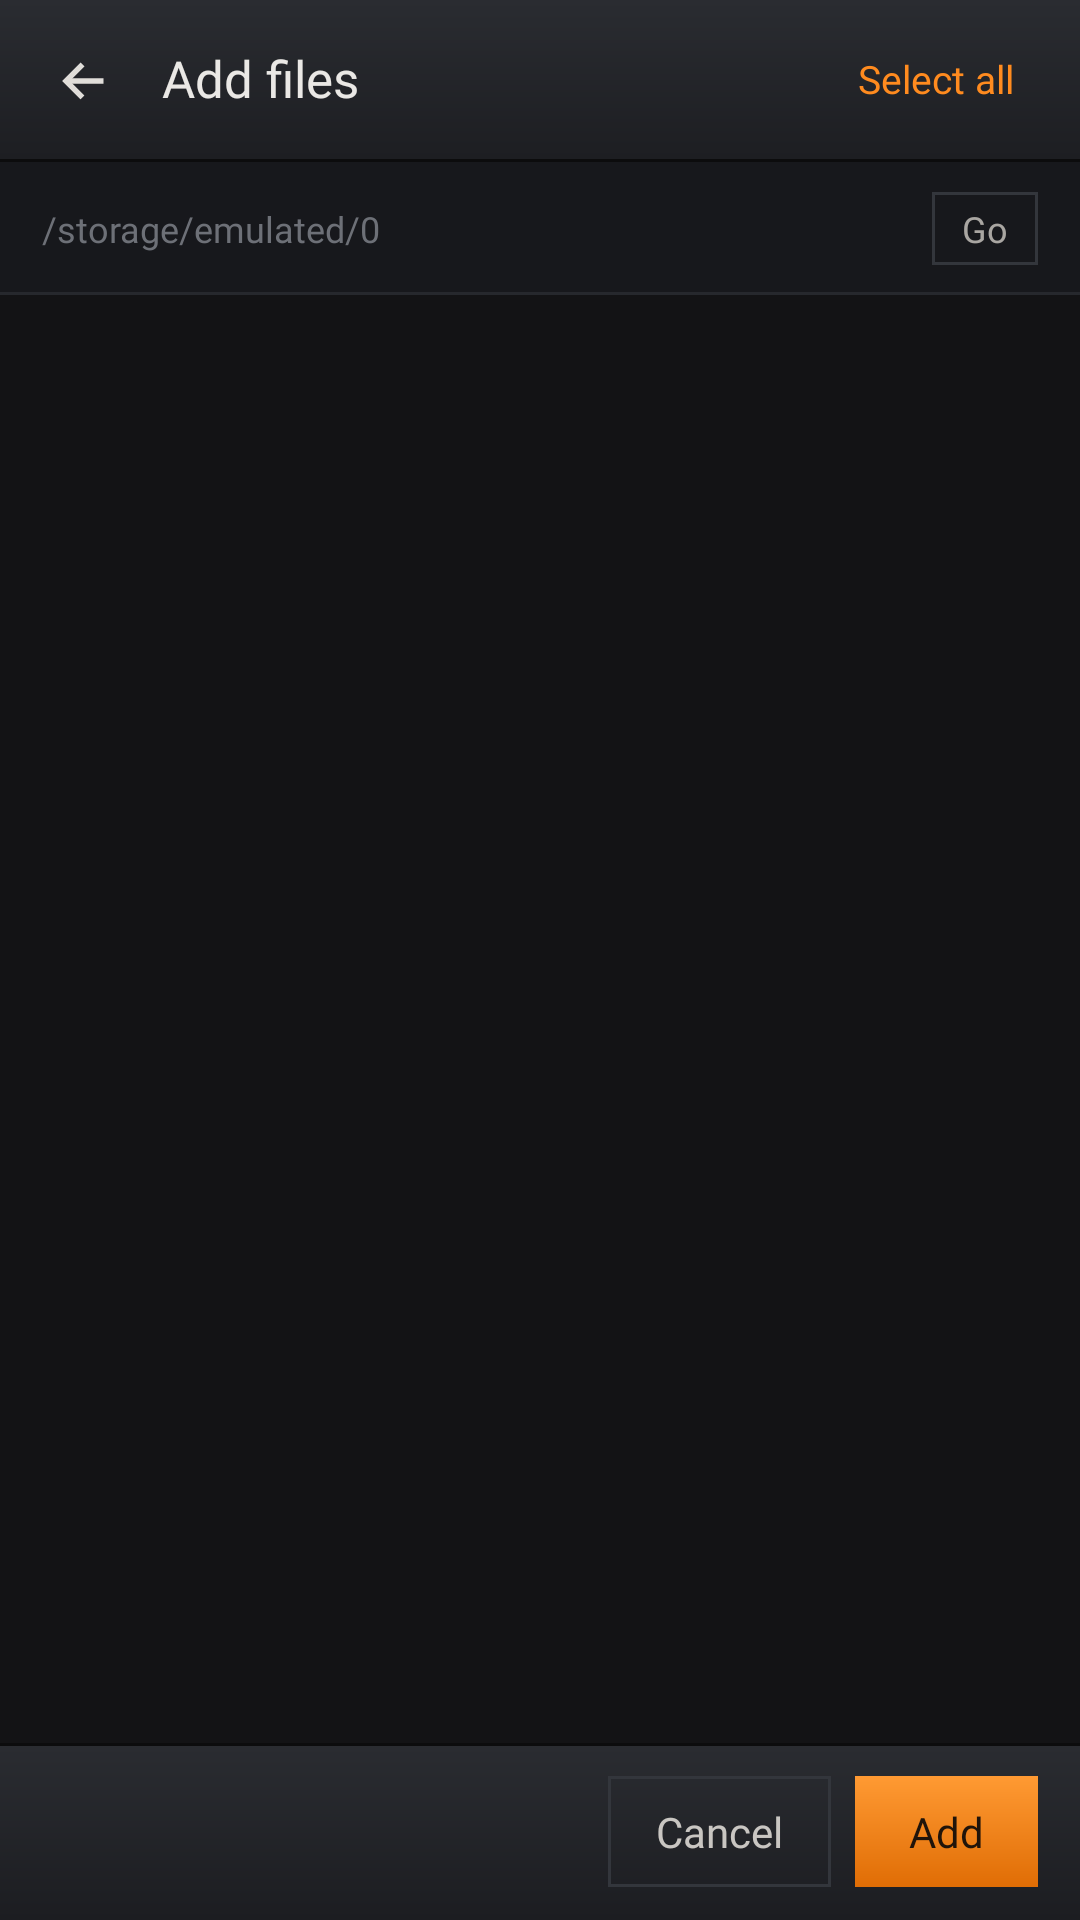

Screen size 1080 x 1920. Icon name, then its box in pixels as region(x1, y1, x2, y2):
Back: region(62, 62, 104, 100)
